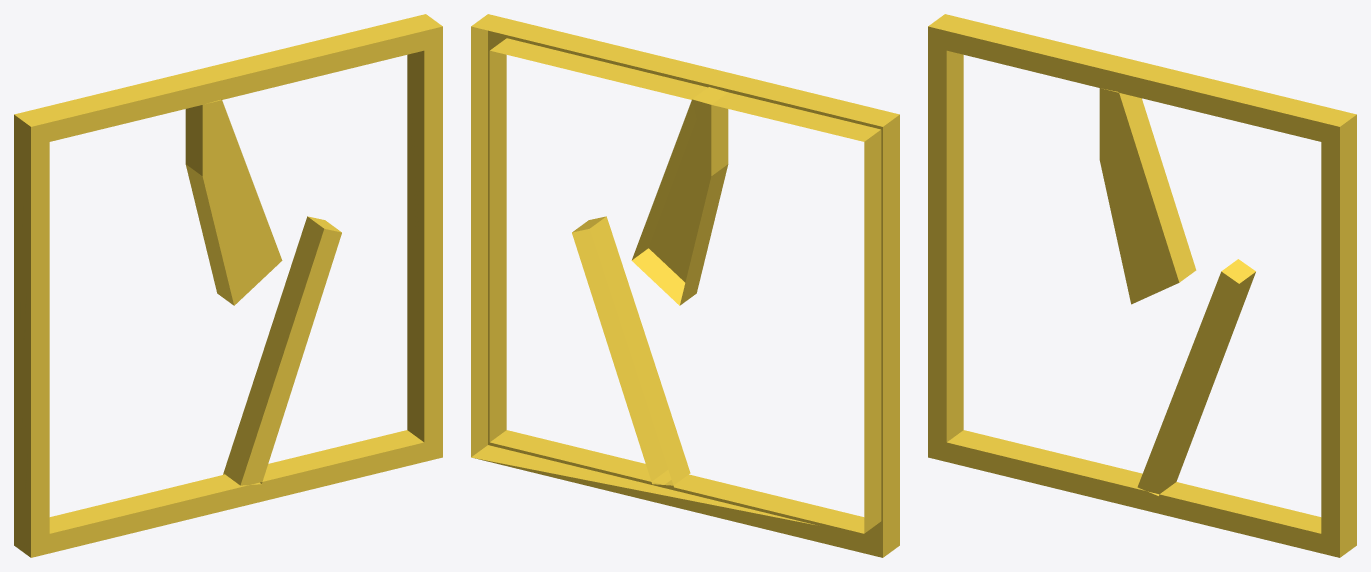
Rendered from Environment2D_Passage.dae.
3 views of the same model, side by side, from view 1: azimuth 30°, elevation 25°; view 2: azimuth 150°, elevation 25°; view 3: azimuth 330°, elevation 25° (orthographic).
Visible parts, largest first — view 1: instance_0 (×3); view 2: instance_0 (×3); view 3: instance_0 (×3).
Part boxes in pixels (<box>): instance_0 (×3): <box>14,14,442,557</box>; instance_0 (×3): <box>471,14,899,557</box>; instance_0 (×3): <box>928,14,1356,557</box>.
Size of the model in its own units: 1.1 by 0.0787 by 1.1.
